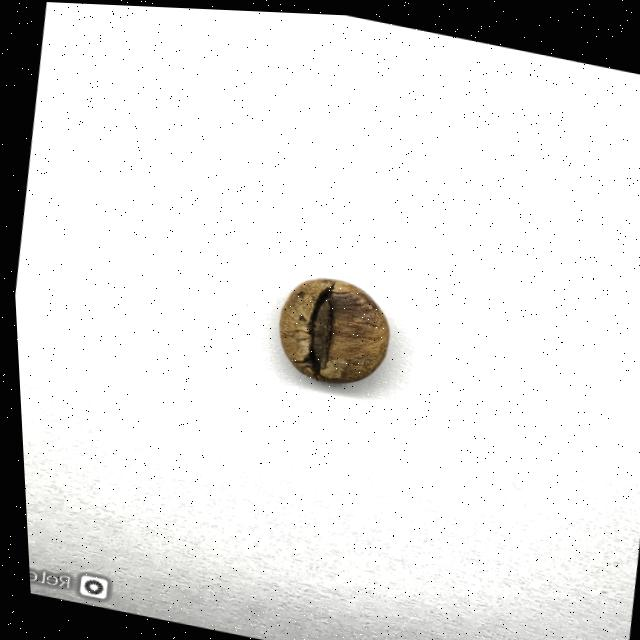Quaker: (269, 266, 393, 391)
